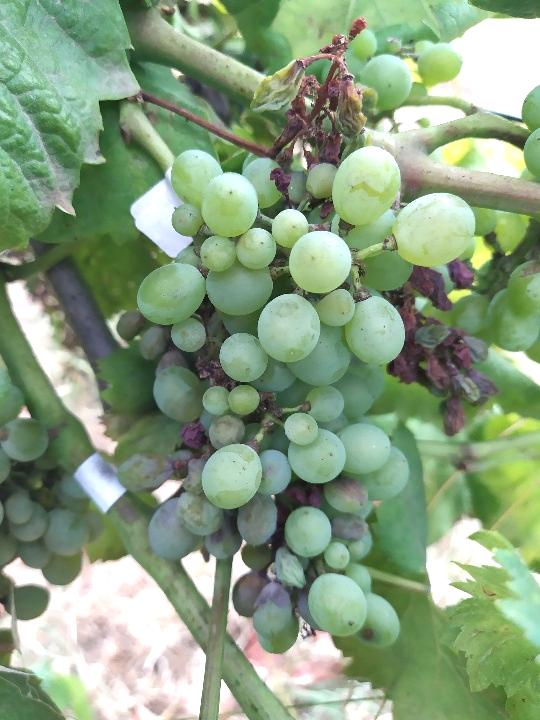grape: (114, 46, 506, 658)
